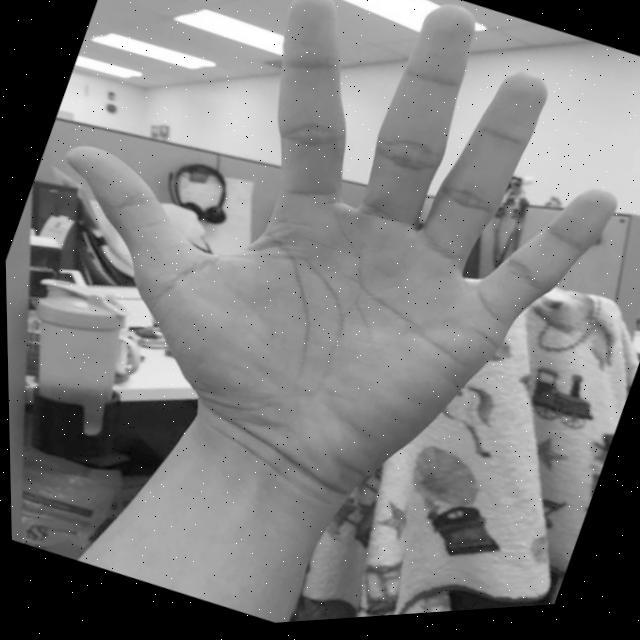no-gloves: (0, 0, 640, 577)
